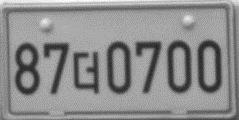0: (165, 39, 193, 93), (196, 38, 222, 93), (105, 40, 131, 94)
7: (42, 41, 71, 95), (134, 39, 162, 94)
8: (13, 42, 41, 95)
더: (72, 50, 100, 95)
